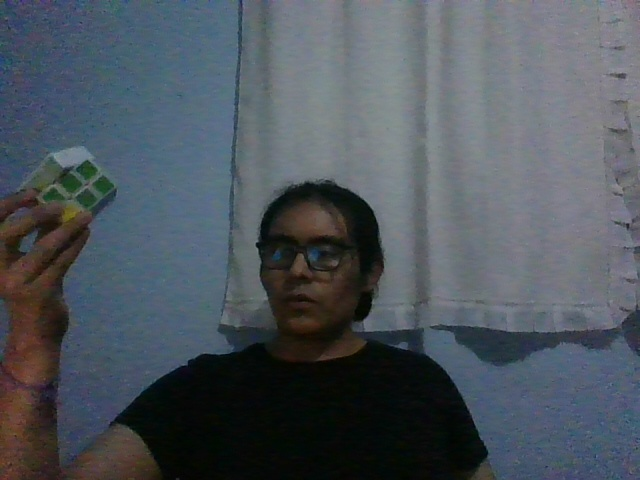rubik: (14, 145, 117, 225)
